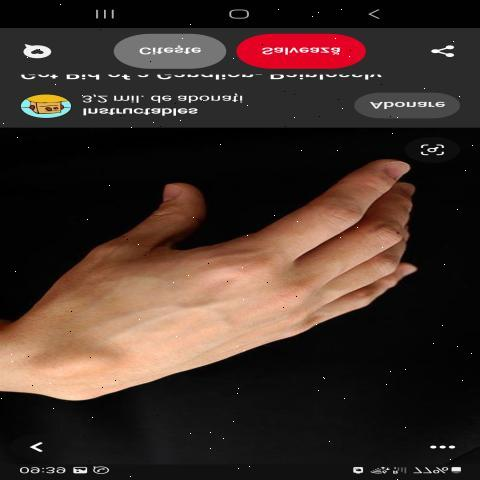Hands: (10, 148, 436, 431)
